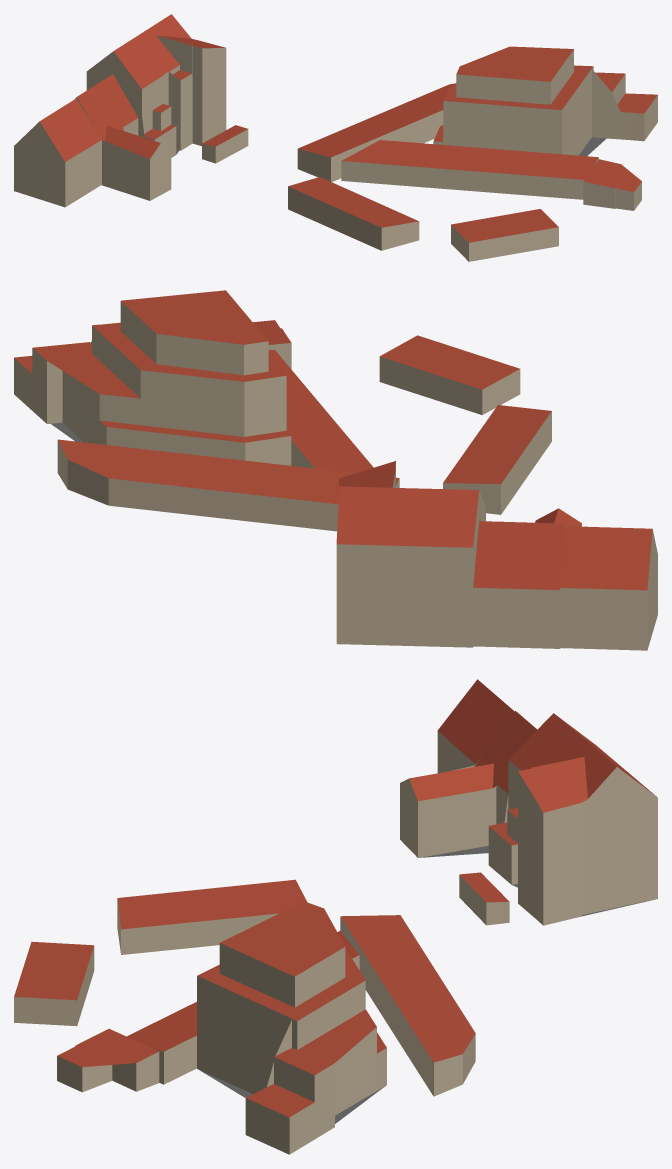
File: ingolstadt_10_lod2_buildings.obj
3 renders of one model, top to bottom at view 1: azimuth 30°, elevation 25°; view 2: azimuth 150°, elevation 25°; view 3: azimuth 270°, elevation 25°, orthographic. The views are drawn at different scales.
Parts seen in each view (by area): view 1: bldg_DEBY_L2_107777145, bldg_DEBY_L2_4392510, bldg_DEBY_L2_4392842, bldg_DEBY_L2_4392435, bldg_DEBY_L2_4392436, bldg_DEBY_L2_104848284, bldg_DEBY_L2_4392840, bldg_DEBY_L2_4392841, bldg_DEBY_L2_4392882, bldg_DEBY_L2_4392883; view 2: bldg_DEBY_L2_107777145, bldg_DEBY_L2_4392510, bldg_DEBY_L2_104848284, bldg_DEBY_L2_4392435, bldg_DEBY_L2_4392436, bldg_DEBY_L2_4392841, bldg_DEBY_L2_4392840, bldg_DEBY_L2_4392842, bldg_DEBY_L2_4392882; view 3: bldg_DEBY_L2_107777145, bldg_DEBY_L2_4392510, bldg_DEBY_L2_104848284, bldg_DEBY_L2_4392436, bldg_DEBY_L2_4392840, bldg_DEBY_L2_4392841, bldg_DEBY_L2_4392882, bldg_DEBY_L2_4392435, bldg_DEBY_L2_4392842, bldg_DEBY_L2_4392883.
Part boxes in pixels (x1,y1,x2,y2): bldg_DEBY_L2_107777145: (433,46,657,156); bldg_DEBY_L2_4392510: (86,14,226,157); bldg_DEBY_L2_4392842: (341,140,598,199); bldg_DEBY_L2_4392435: (14,98,101,207); bldg_DEBY_L2_4392436: (75,74,171,200); bldg_DEBY_L2_104848284: (297,83,456,181); bldg_DEBY_L2_4392840: (288,177,419,250); bldg_DEBY_L2_4392841: (451,209,558,261); bldg_DEBY_L2_4392882: (583,159,641,210); bldg_DEBY_L2_4392883: (202,125,248,163); bldg_DEBY_L2_107777145: (14,290,291,465); bldg_DEBY_L2_4392510: (336,461,485,647); bldg_DEBY_L2_104848284: (57,439,399,531); bldg_DEBY_L2_4392435: (560,526,657,650); bldg_DEBY_L2_4392436: (473,508,581,648); bldg_DEBY_L2_4392841: (379,335,520,414); bldg_DEBY_L2_4392840: (443,405,551,514); bldg_DEBY_L2_4392842: (268,350,373,472); bldg_DEBY_L2_4392882: (253,320,291,369); bldg_DEBY_L2_107777145: (197,901,386,1154); bldg_DEBY_L2_4392510: (488,713,657,925); bldg_DEBY_L2_104848284: (340,915,475,1096); bldg_DEBY_L2_4392436: (400,711,537,857); bldg_DEBY_L2_4392840: (117,879,306,954); bldg_DEBY_L2_4392841: (14,941,94,1026); bldg_DEBY_L2_4392882: (57,1029,159,1092); bldg_DEBY_L2_4392435: (437,679,514,773); bldg_DEBY_L2_4392842: (127,931,359,1084); bldg_DEBY_L2_4392883: (459,872,509,925).
Size of the model in its own units: 79.47 by 14.8 by 58.57.
